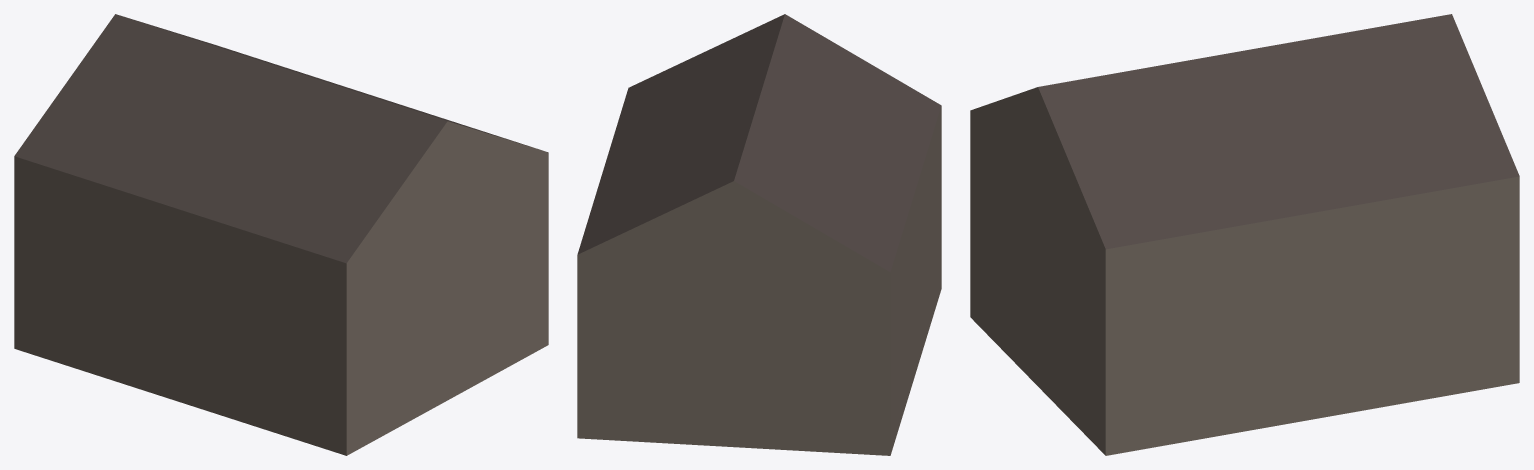
The picture shows the model from 3 angles, left to right: view 1: azimuth 30°, elevation 25°; view 2: azimuth 150°, elevation 25°; view 3: azimuth 270°, elevation 25°; orthographic projection. The views are drawn at different scales.
Visible parts, largest first — view 1: HP-w776801020; view 2: HP-w776801020; view 3: HP-w776801020.
Part boxes in pixels (<box>): HP-w776801020: <box>14,14,548,455</box>; HP-w776801020: <box>577,14,941,455</box>; HP-w776801020: <box>970,14,1519,455</box>.
Bounding box in the file's own units: 13.2 × 8.7 × 14.47.
